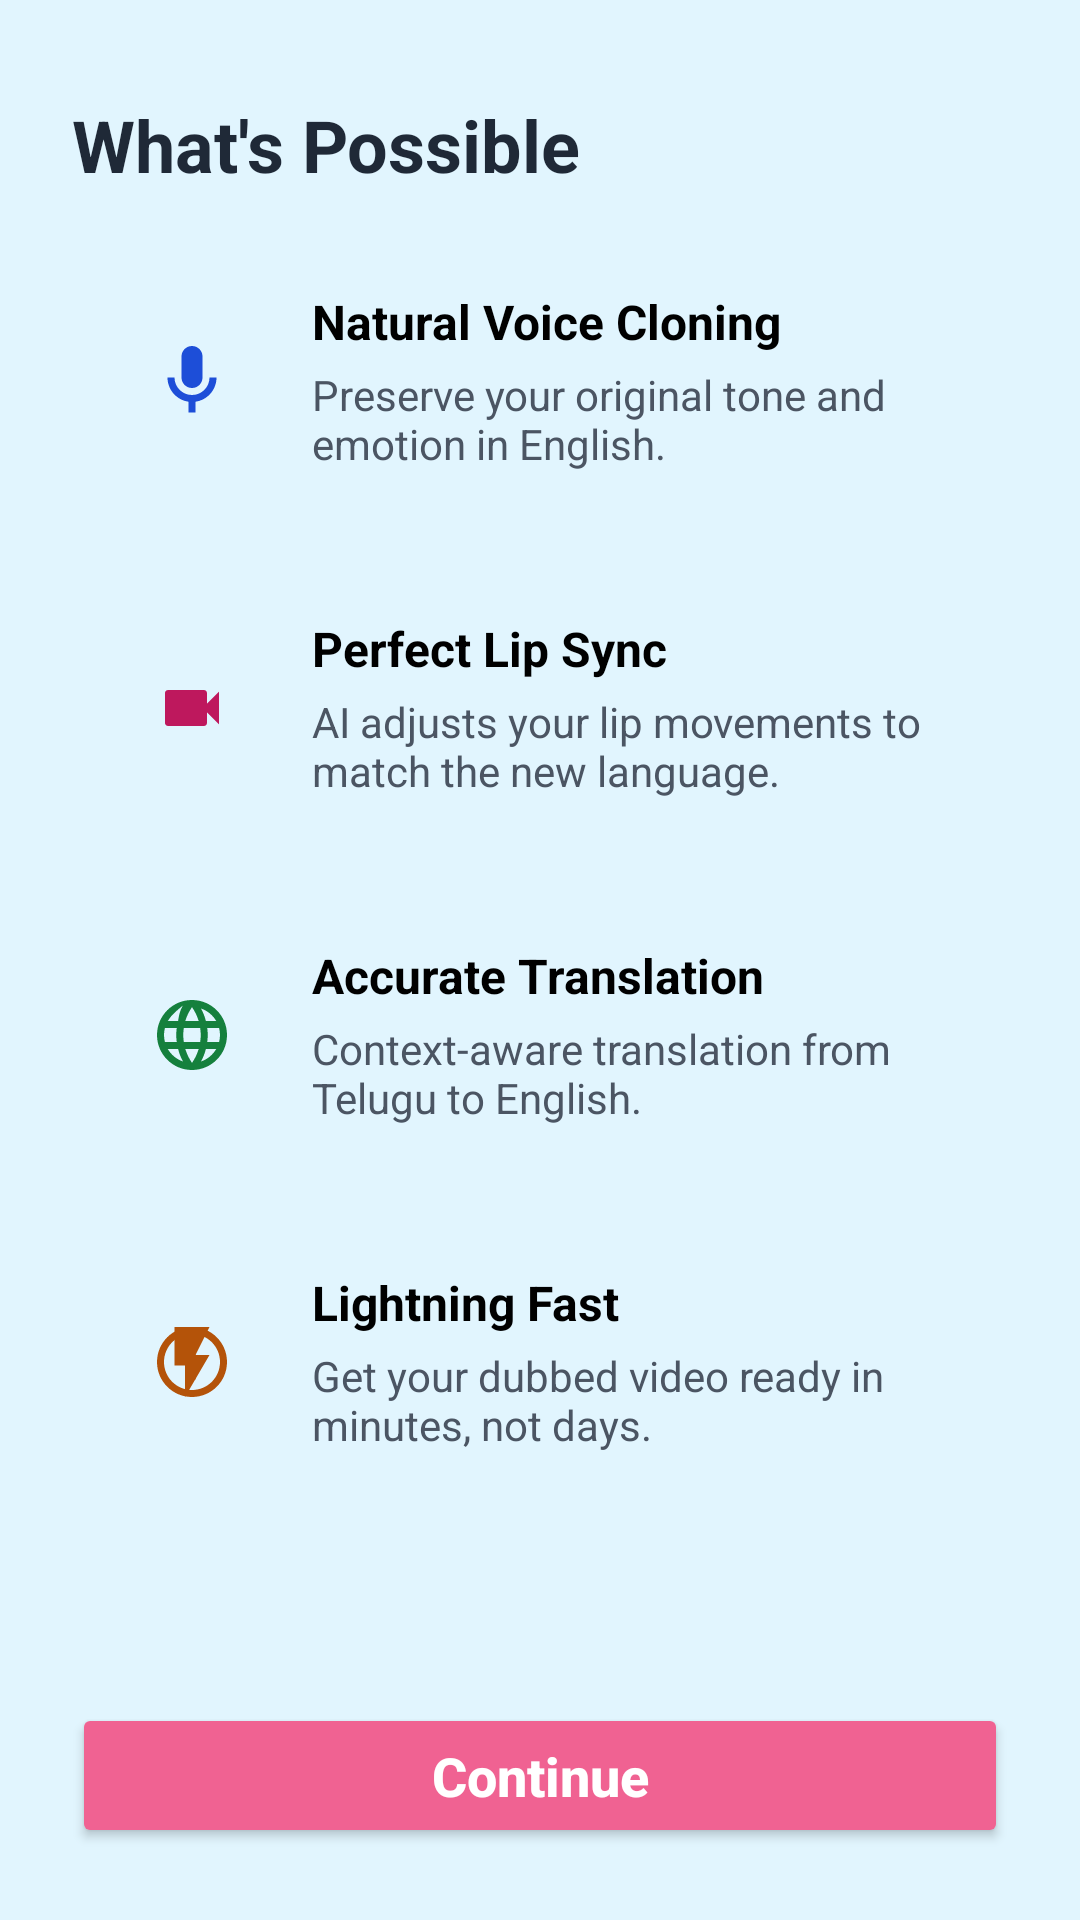

Locate icon controls on the screen. Image size 1080w x 1920h, boxes as (x1, y1, x2, y2).
feature bolt: (157, 1327, 227, 1397)
feature globe: (157, 1000, 227, 1070)
feature video: (165, 690, 219, 726)
feature voice: (167, 346, 217, 413)
